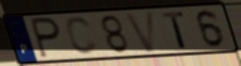6: (195, 9, 227, 49)
8: (100, 14, 130, 54)
C: (63, 15, 101, 57)
P: (29, 15, 63, 60)
T: (161, 10, 188, 49)
V: (123, 9, 158, 55)
